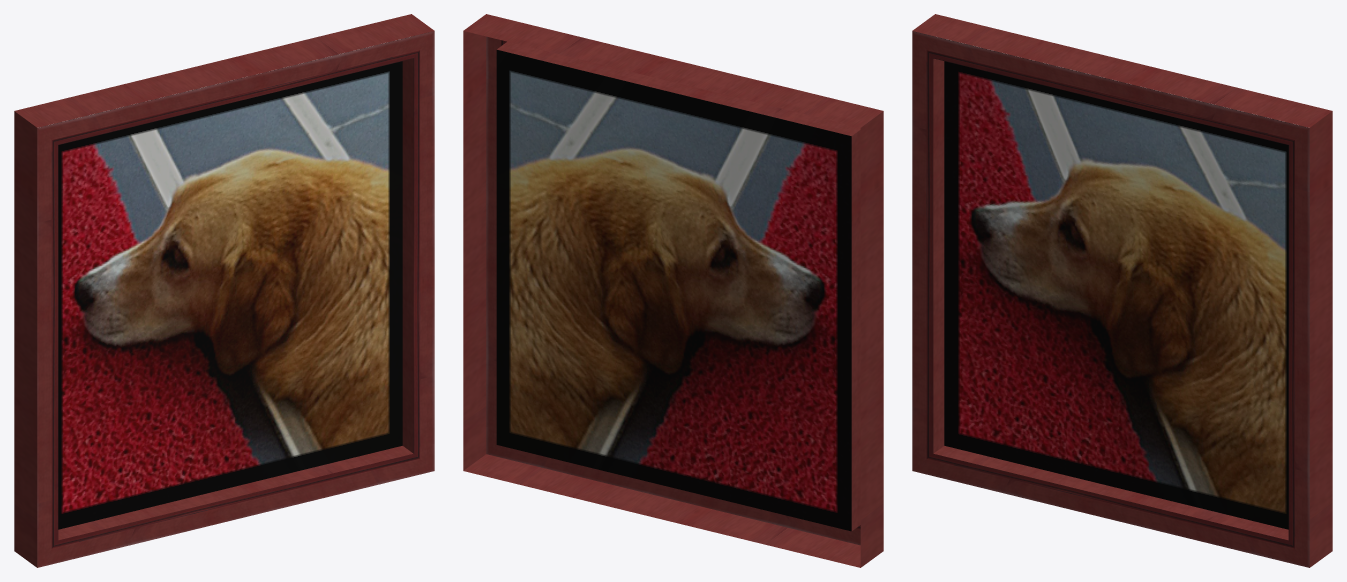
Rendered from Paint07.fbx.
The picture shows the model from 3 angles, left to right: view 1: azimuth 30°, elevation 25°; view 2: azimuth 150°, elevation 25°; view 3: azimuth 330°, elevation 25°; orthographic projection.
Parts seen in each view (by area): view 1: Mesh; view 2: Mesh; view 3: Mesh.
Part boxes in pixels (<box>): Mesh: <box>14,14,434,567</box>; Mesh: <box>463,14,883,567</box>; Mesh: <box>912,14,1332,567</box>.
Bounding box in the file's own units: 94.5 × 100 × 9.5.
